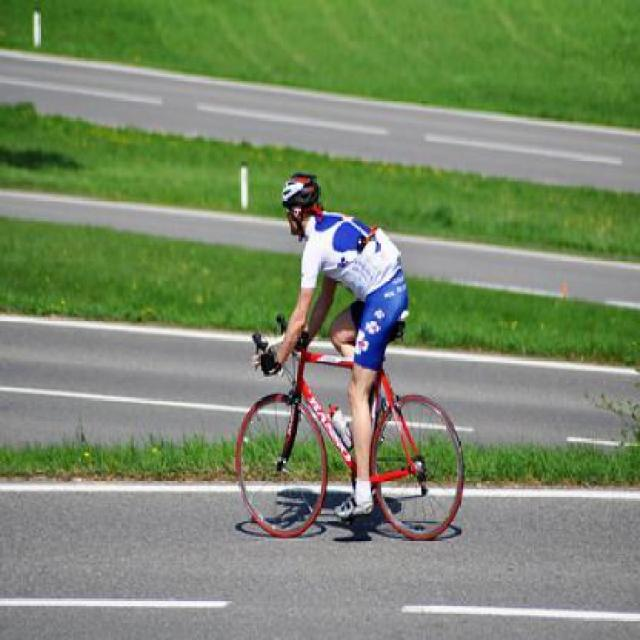Bicycle: (220, 159, 475, 546)
